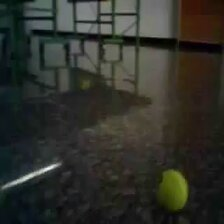tennis: (156, 170, 188, 211)
